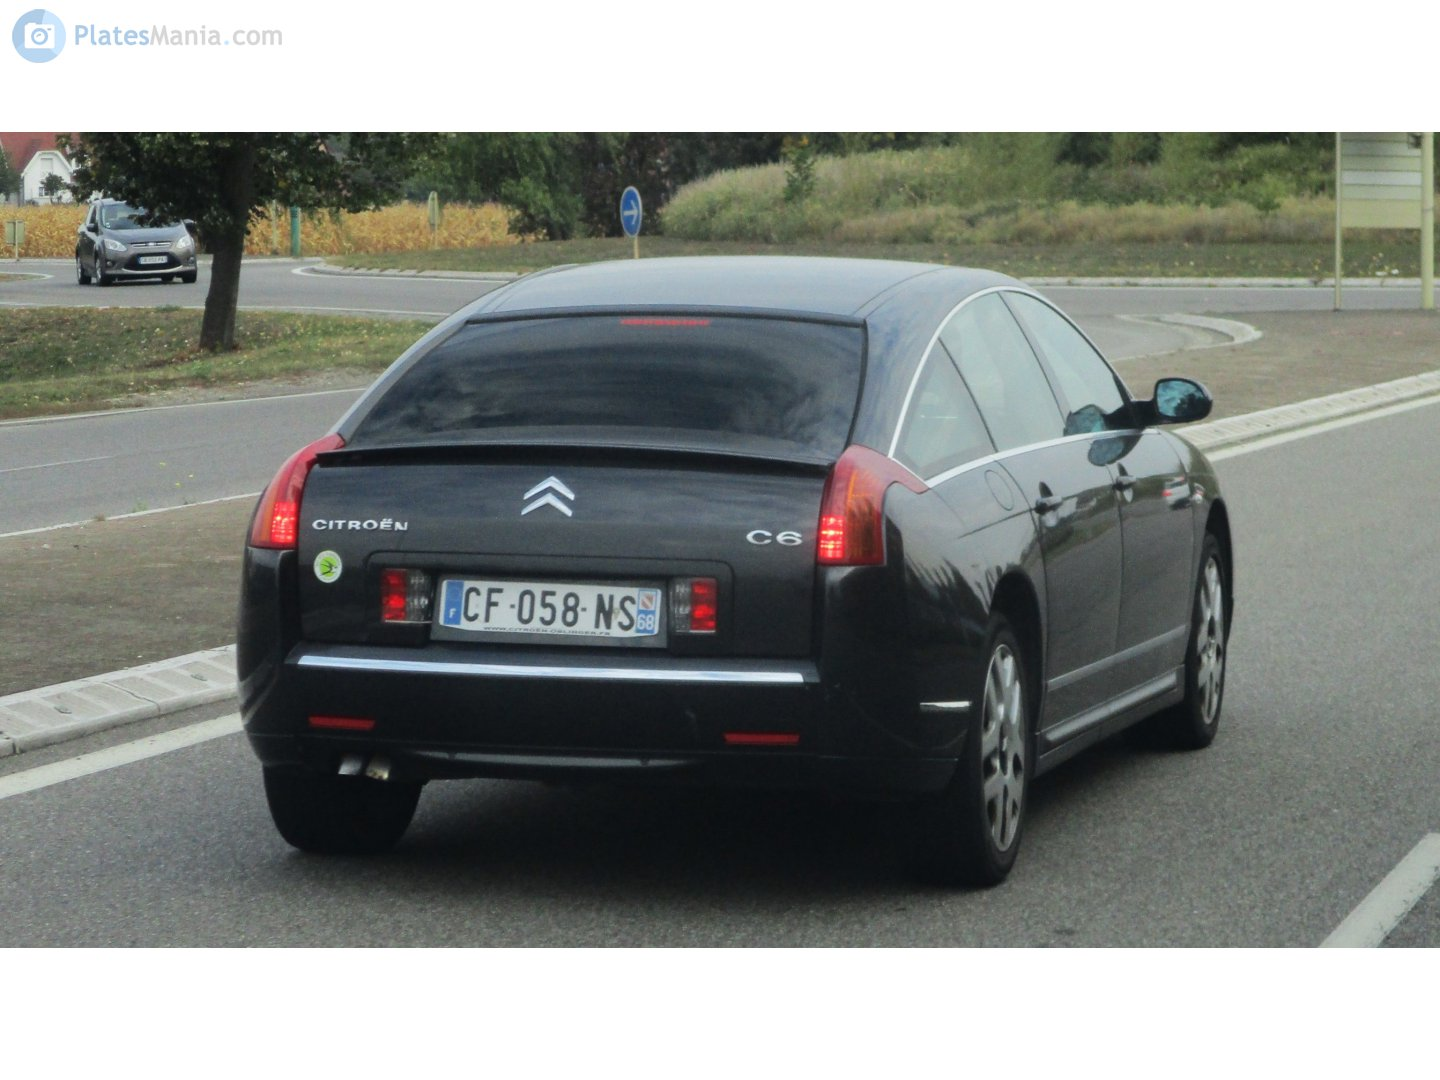licence plate: (435, 575, 664, 642)
